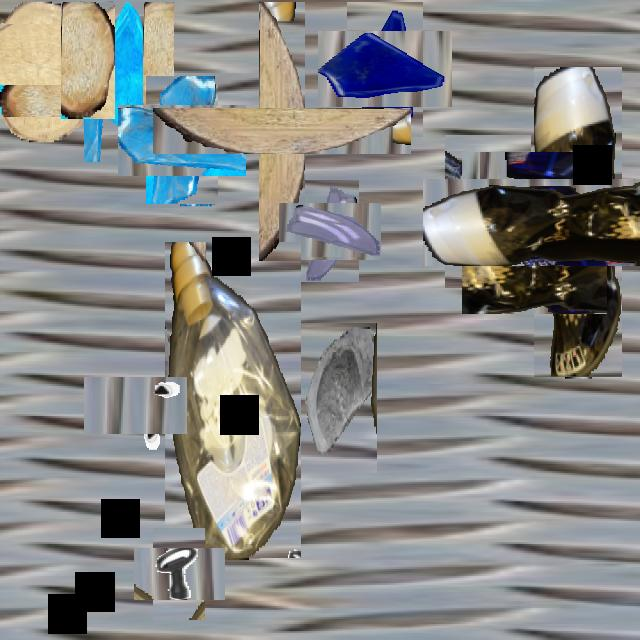glass: (84, 2, 174, 162), (445, 135, 531, 288), (293, 323, 377, 473), (332, 17, 438, 122), (132, 90, 232, 190), (290, 191, 370, 271)
metal: (96, 365, 176, 446), (143, 538, 215, 610)
plastic: (165, 242, 301, 558), (478, 122, 640, 321), (457, 156, 611, 310)
wood: (206, 55, 358, 208), (0, 13, 104, 128), (61, 2, 115, 119)
